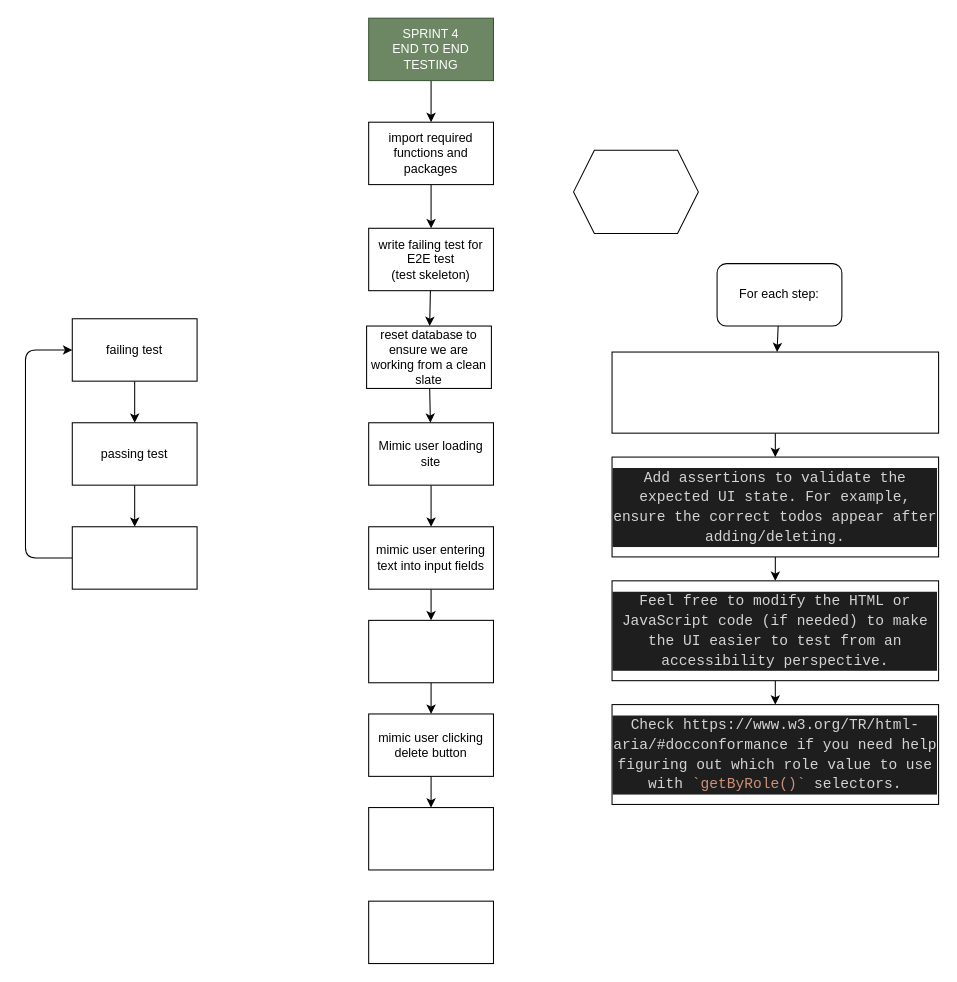
Image size: 957x982. Some labels were removed from this diagram. The centre of each missing label's shape, as x and y in pixels:
all content should be the same after page refresh: (430,932)
GitHub Add Sprint 4 as a milestone with issues: (635,191)
mimic user clicking add button: (430,651)
mimic user refresh page: (430,838)
refactor: (134,557)
Use Playwright to simulate user actions like clicking buttons, typing text, etc.: (775,392)
